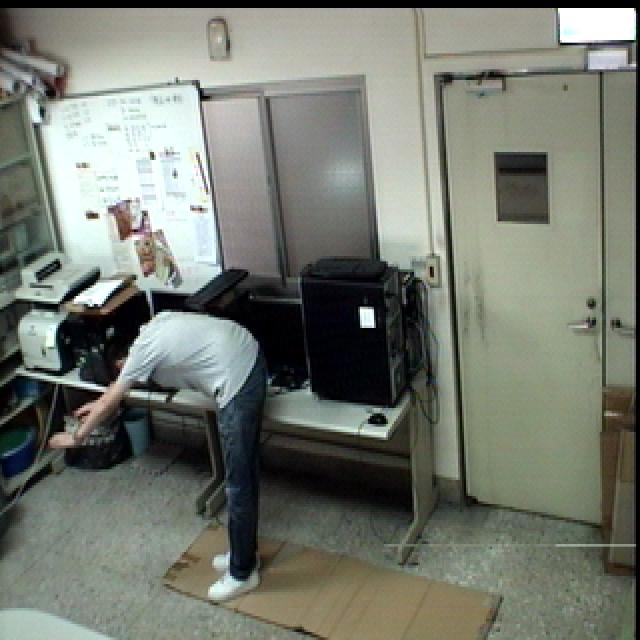bend: (44, 310, 270, 620)
